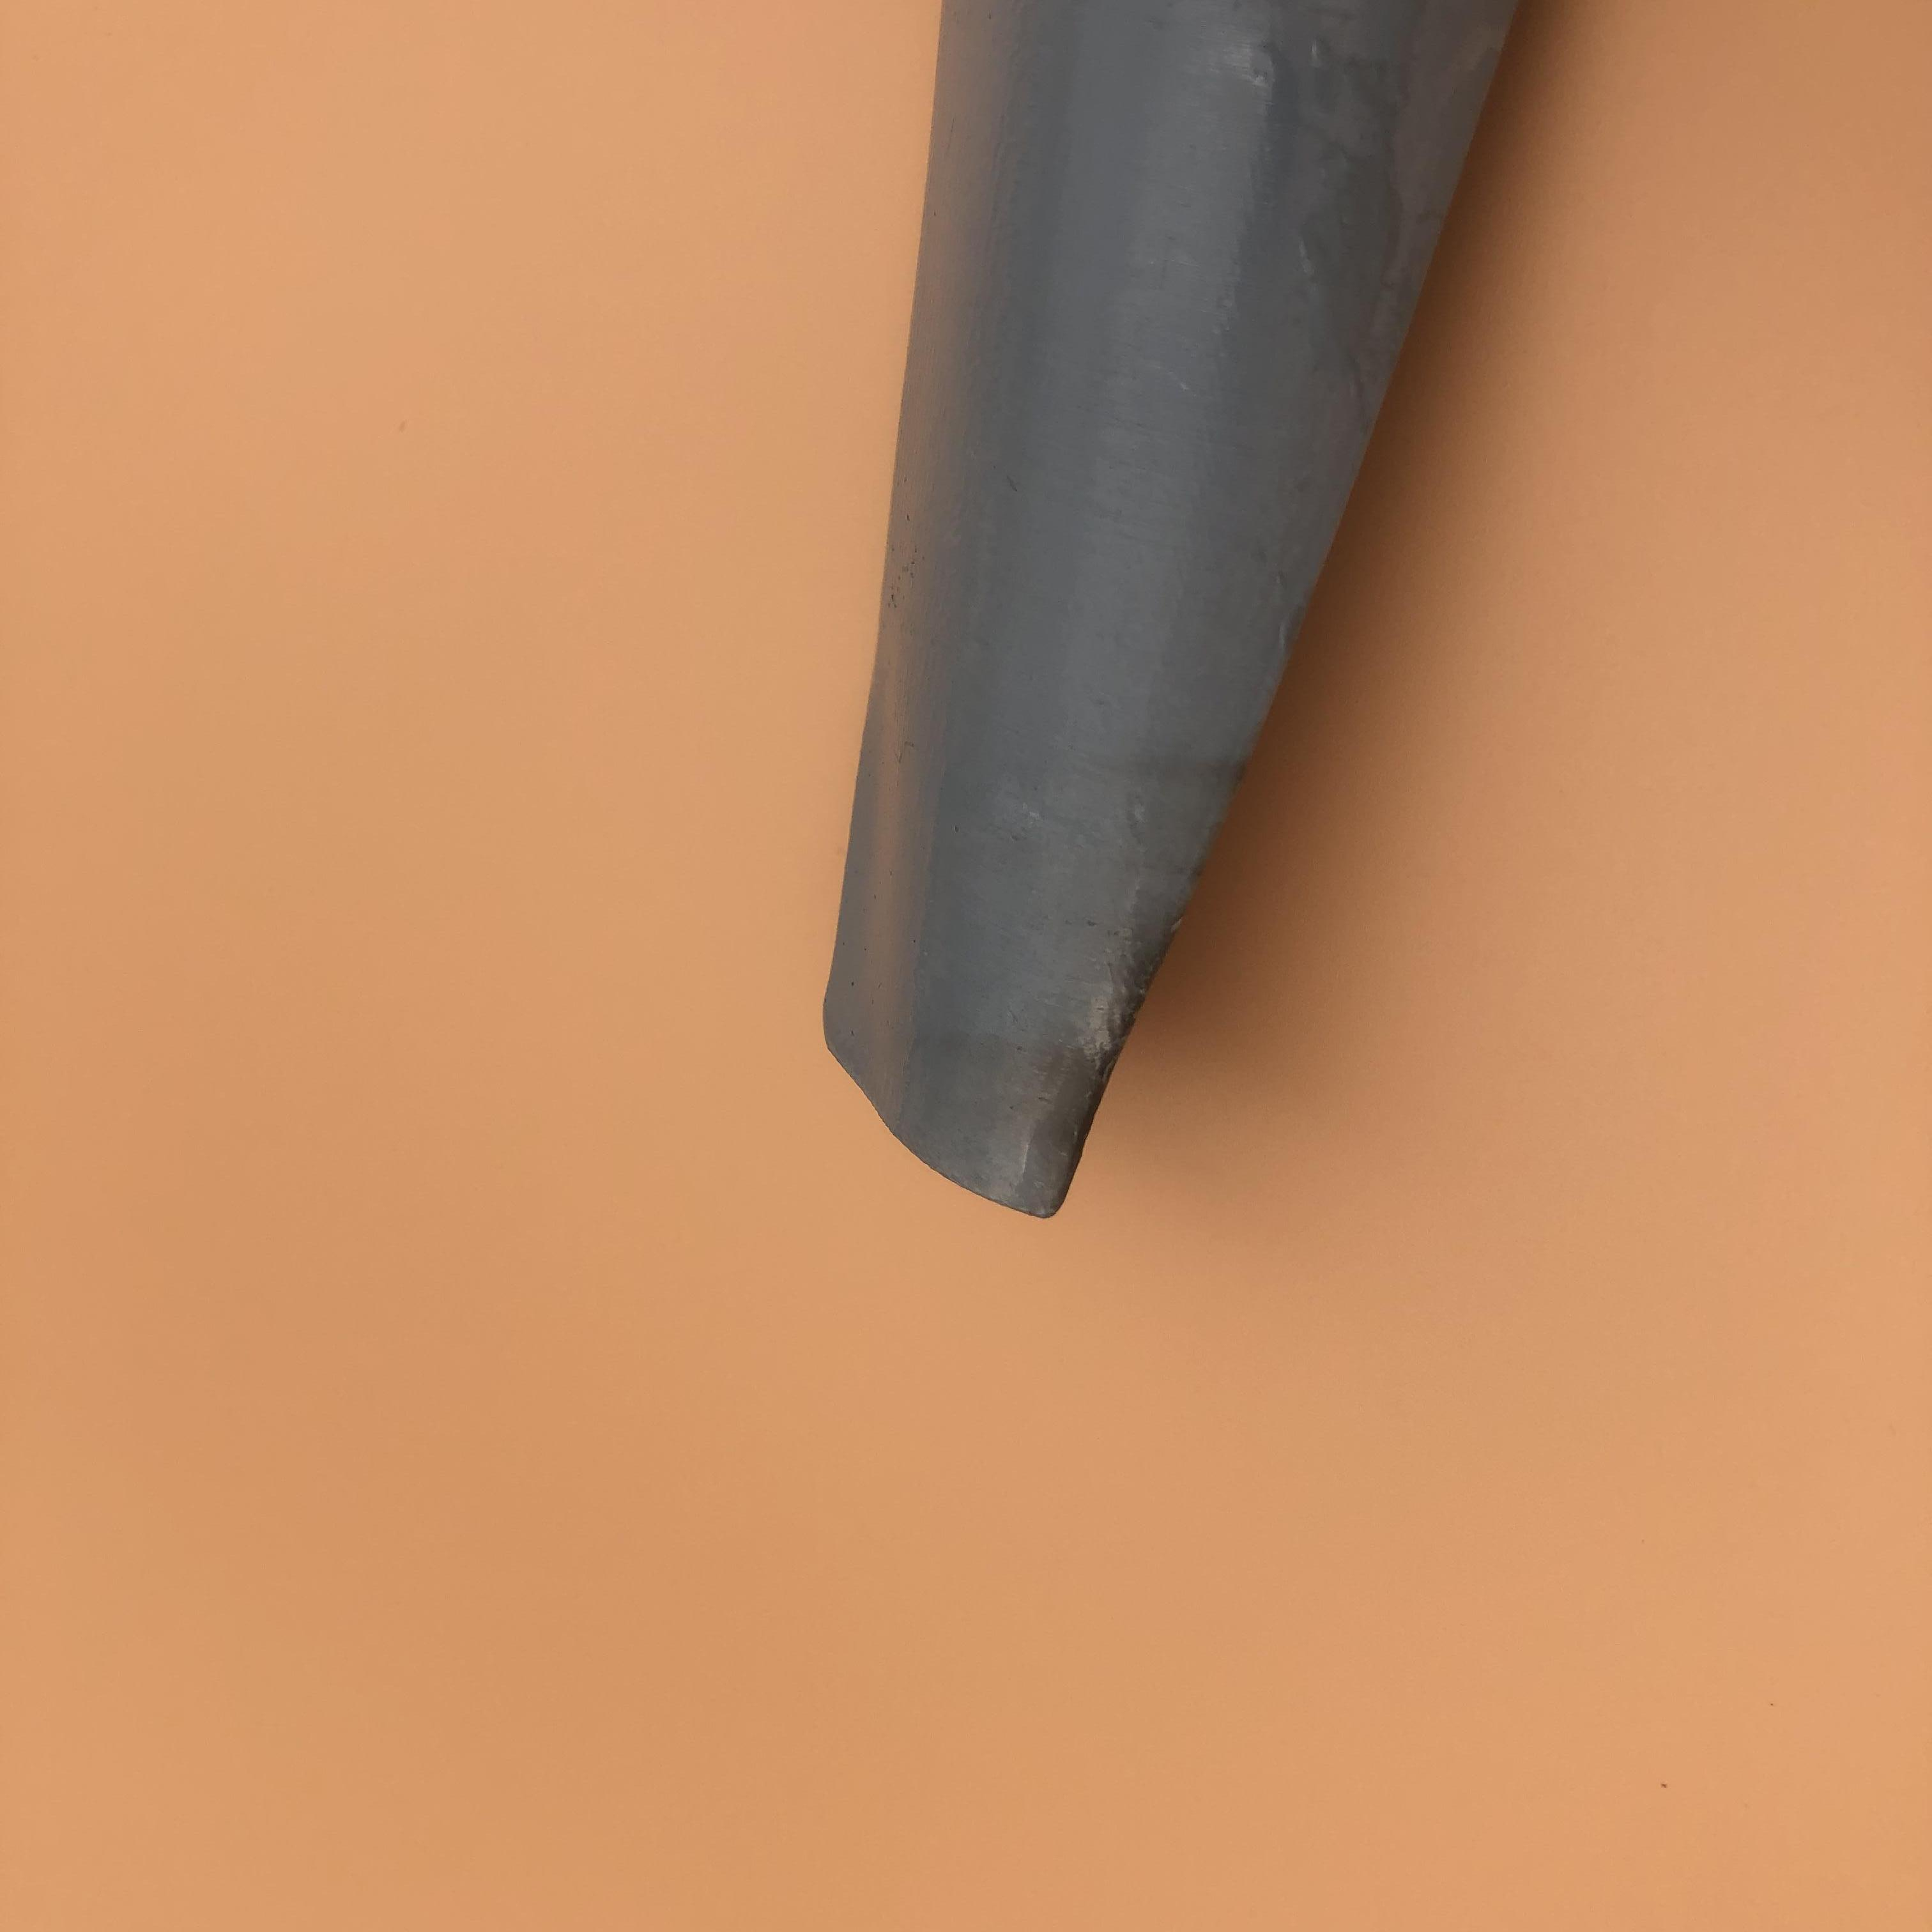ablation: (1051, 916, 1177, 1212)
